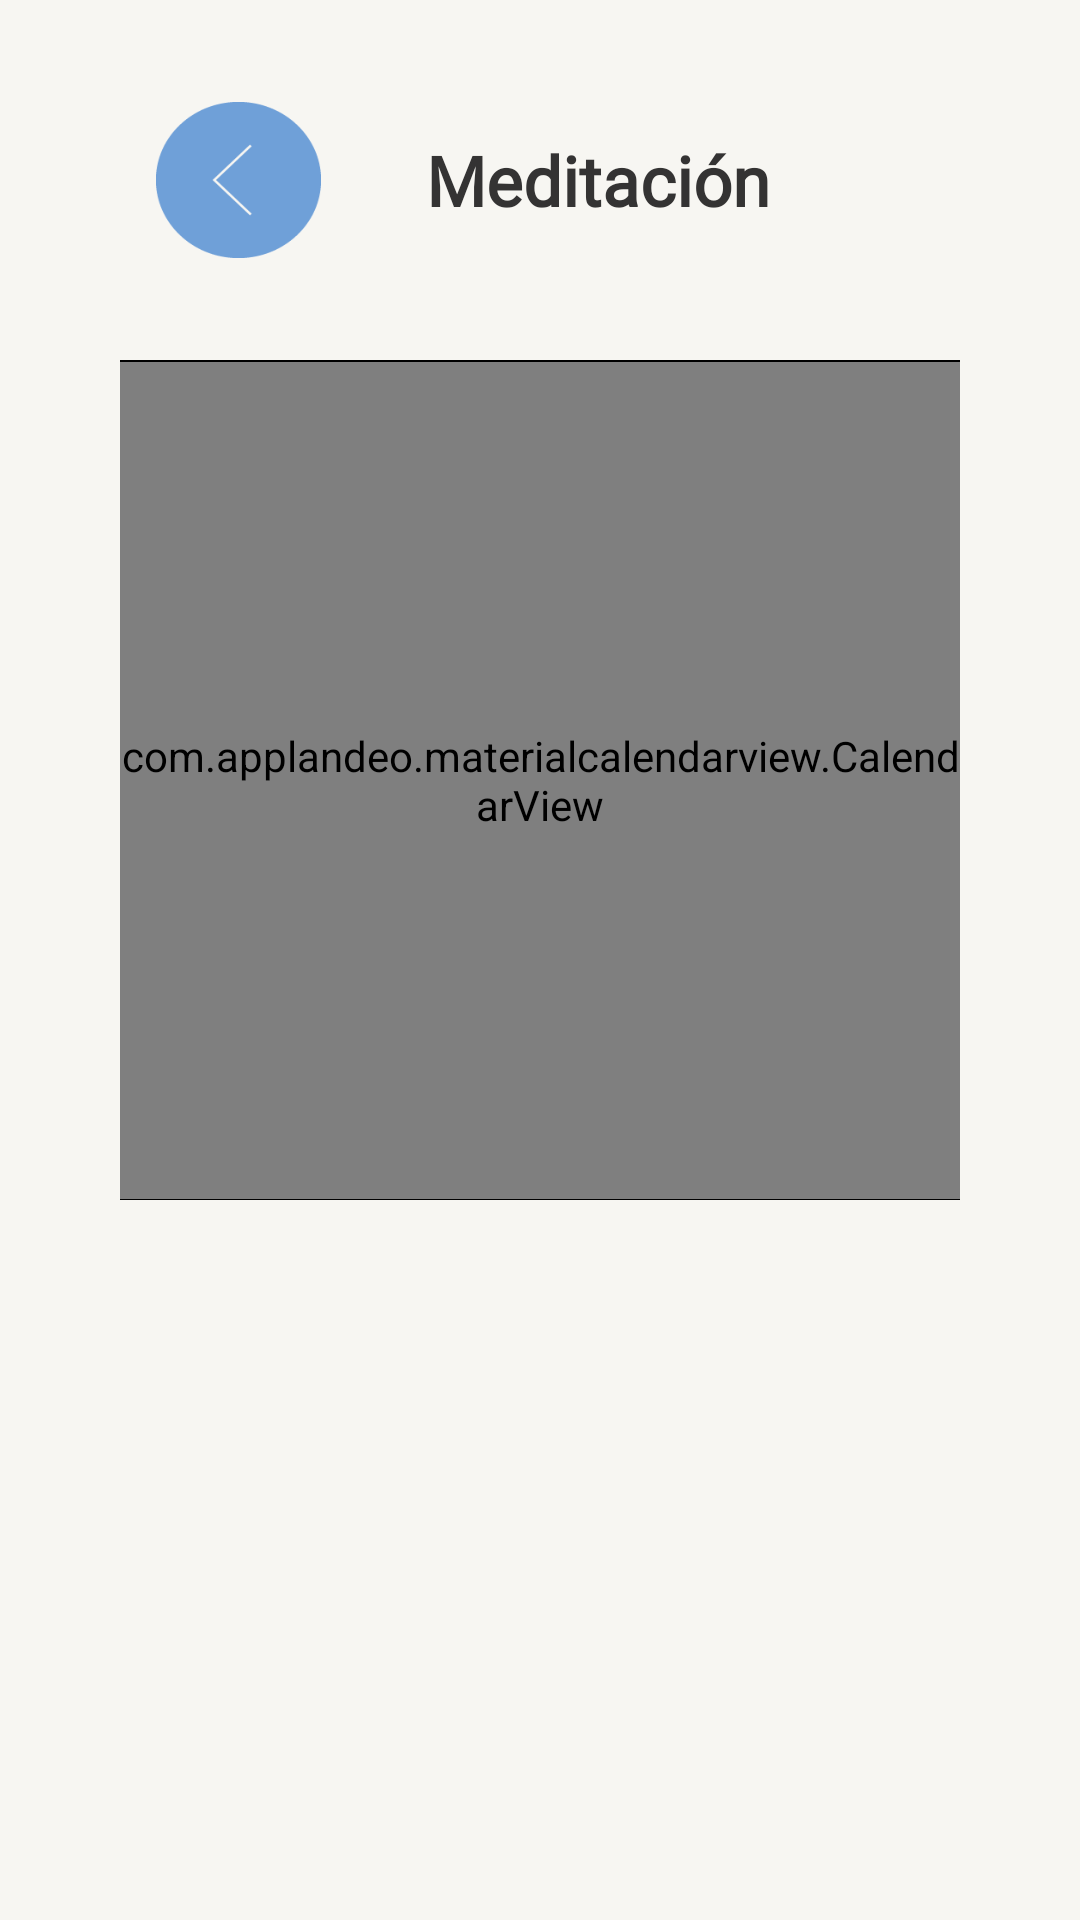

Locate icon controls on the screen. Image size 1080x1920, boxes as (x1, y1, x2, y2).
regresar xxxdpi: (156, 102, 321, 258)
